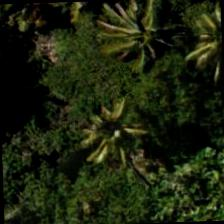Kelapa_Sawit: (70, 90, 162, 182), (89, 0, 183, 76), (167, 0, 223, 87)
